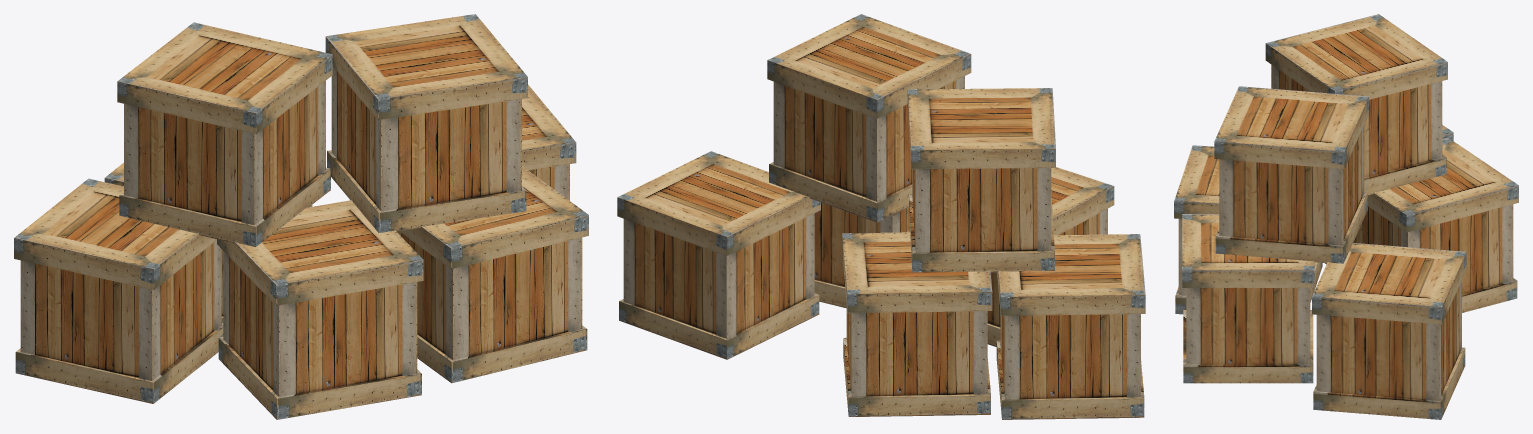
File: Crates_2.fbx
The picture shows the model from 3 angles, left to right: view 1: azimuth 30°, elevation 25°; view 2: azimuth 150°, elevation 25°; view 3: azimuth 270°, elevation 25°; orthographic projection. The views are drawn at different scales.
Visible parts, largest first — view 1: polySurface2; view 2: polySurface2; view 3: polySurface2.
Part boxes in pixels (x1,y1,x2,y2): polySurface2: (14,14,588,419); polySurface2: (617,14,1145,419); polySurface2: (1174,14,1518,419).
Size of the model in its own units: 215 by 101 by 141.
